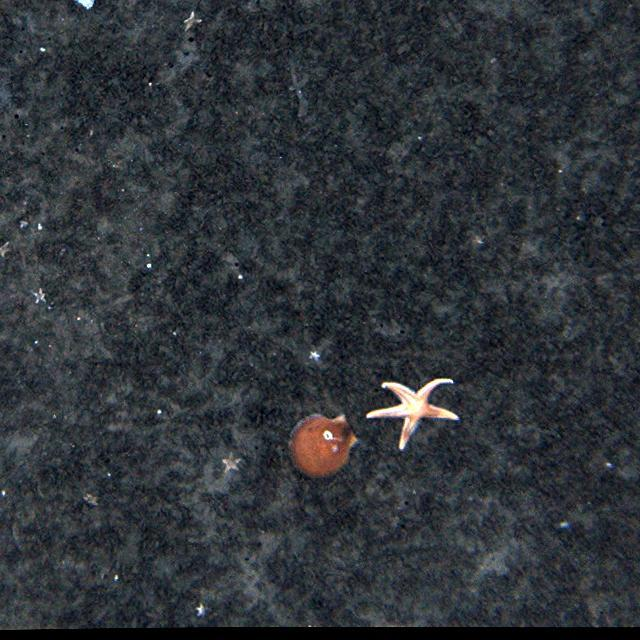scallop: (290, 409, 360, 482)
